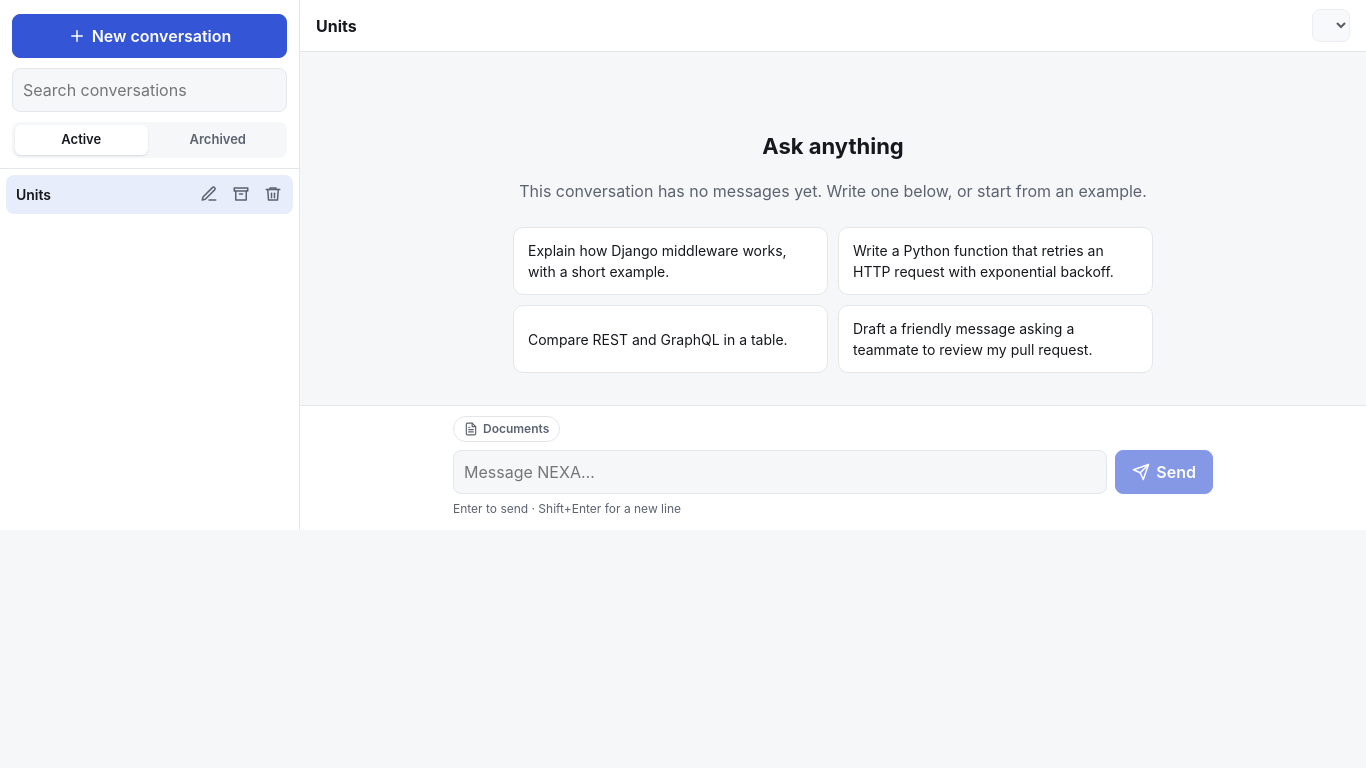
Test: ChatPage with AI tools › stops a reply while a tool runs
This screenshot has width=1366, height=768.
Type "What is 6*7?" into the text box labelled "Message" at [780, 472], box [453,450,1107,494]
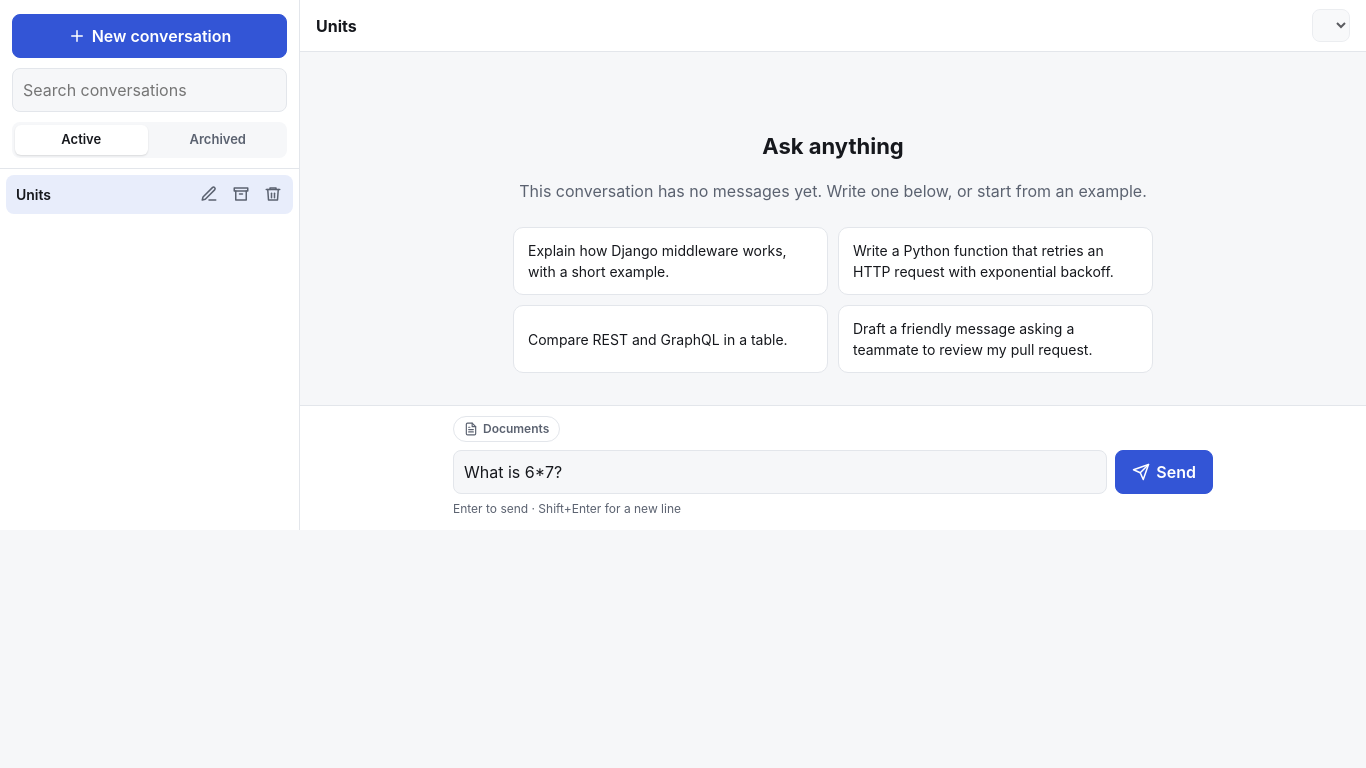
Click the button "Send" at [1164, 472], box [1115,450,1213,494]
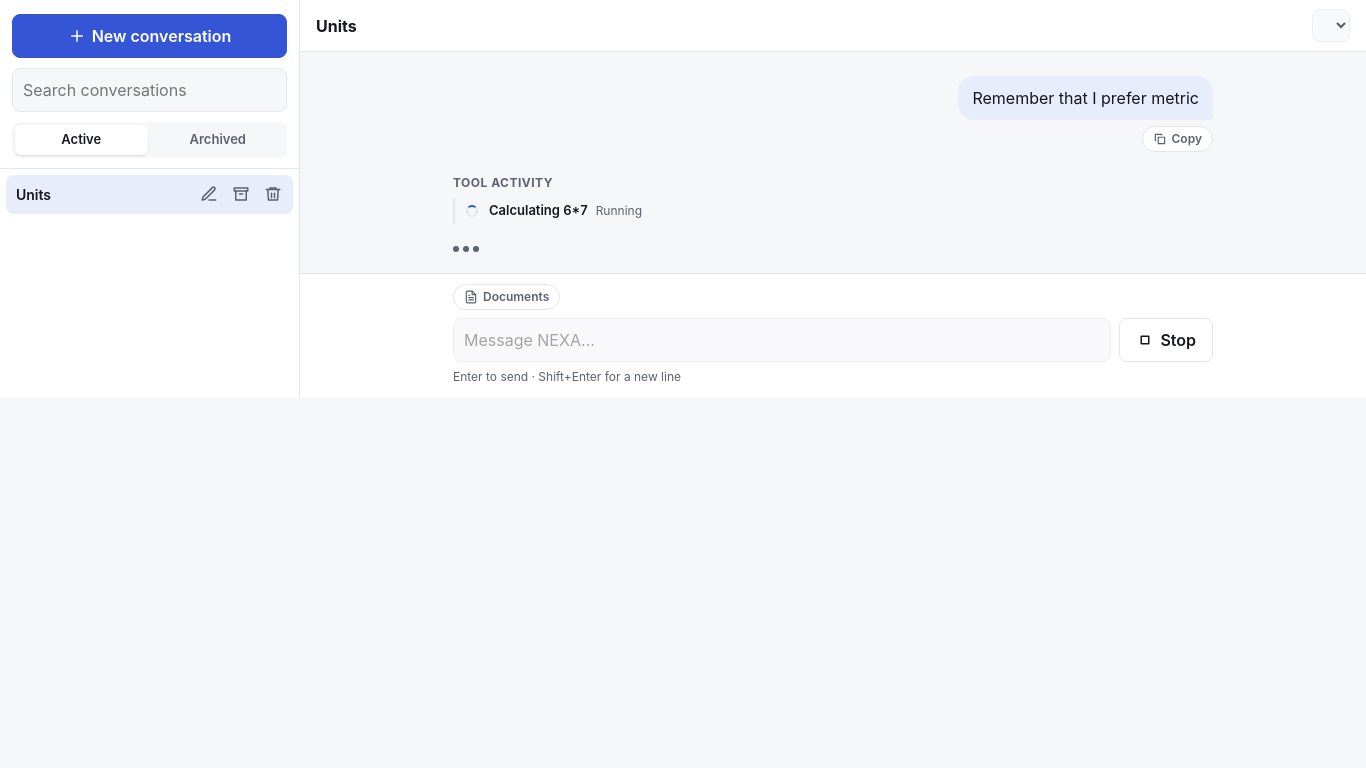
Click the button "Stop" at [1166, 340], box [1119,318,1213,362]
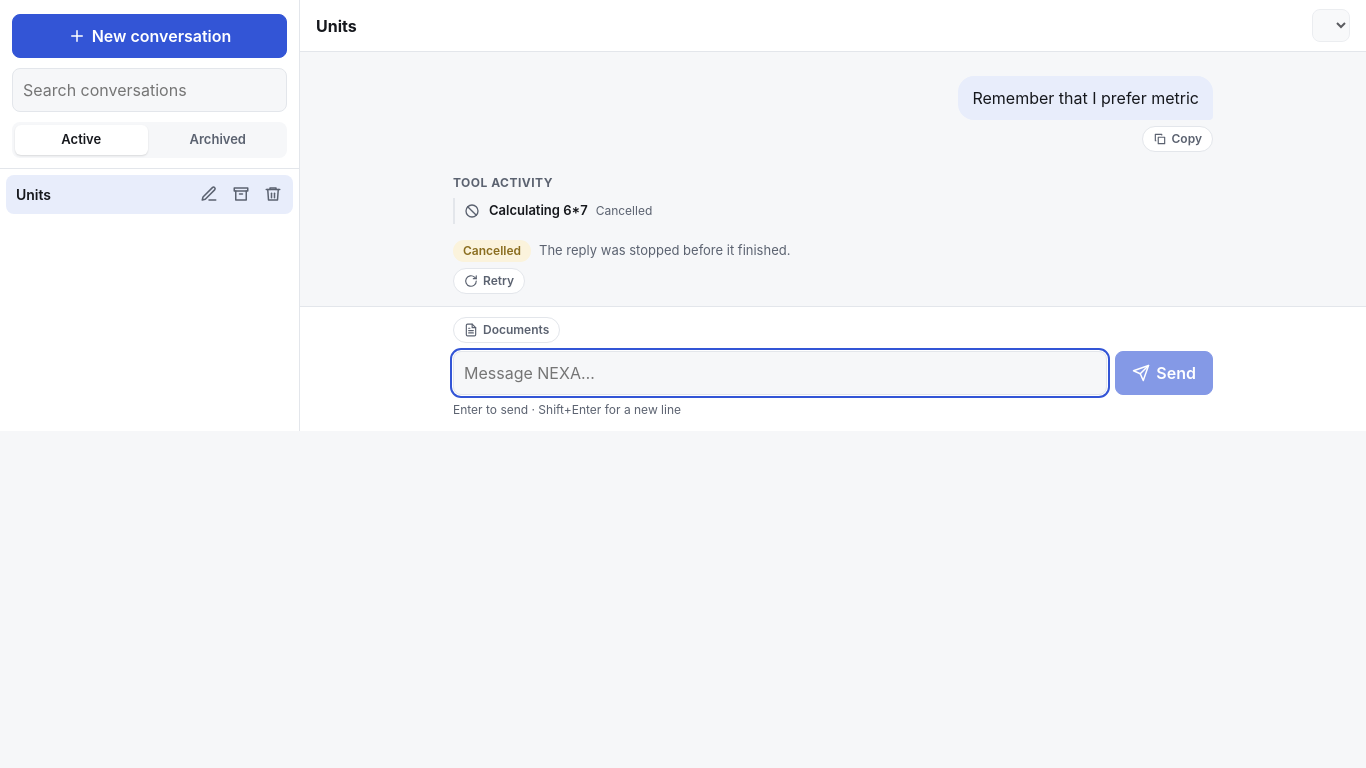
Result: the 2nd text "Cancelled" is shown at [453,240,531,262]
